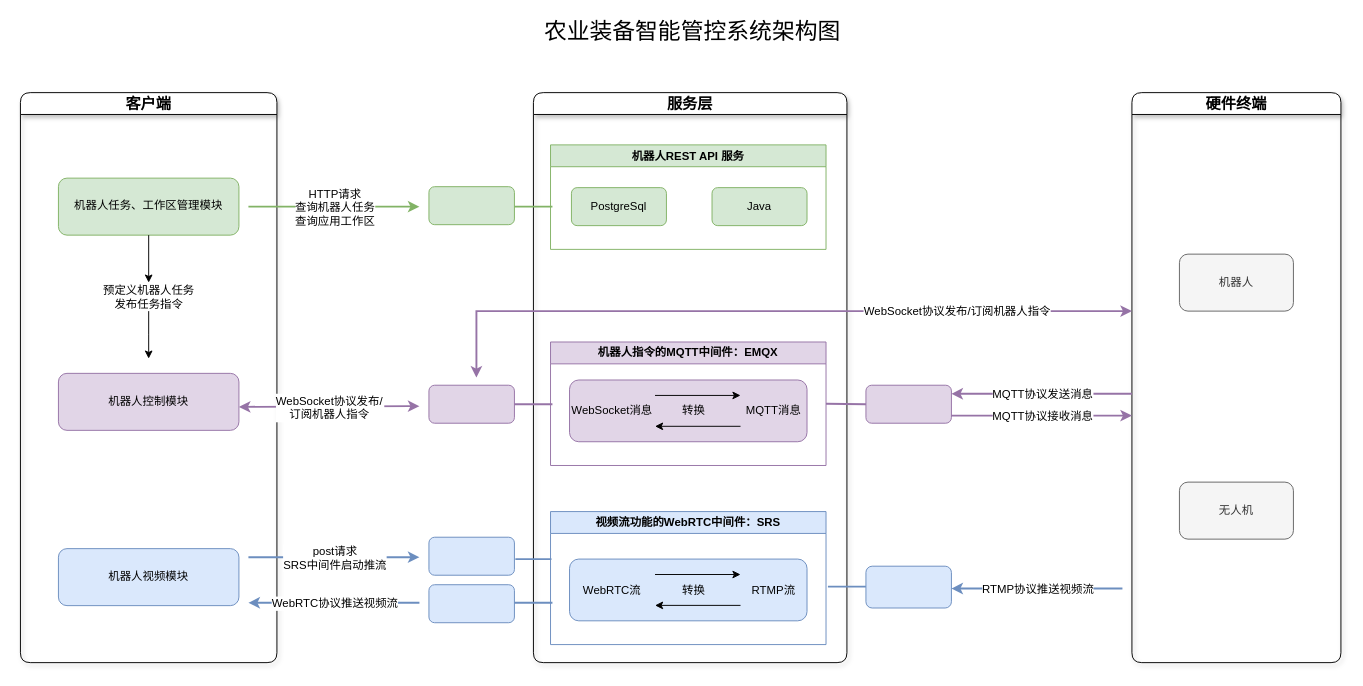
This 1363x686 diagram has some shape labels left out. The centre of each missing label's shape, as x and y in pixels:
API: the point at 471,205
HTTP API: the point at 471,555
RTMP协议端口: the point at 908,586
TCP端口: the point at 908,403
WebRTC端口(UDP): the point at 471,603
WebSocket端口: the point at 471,403
